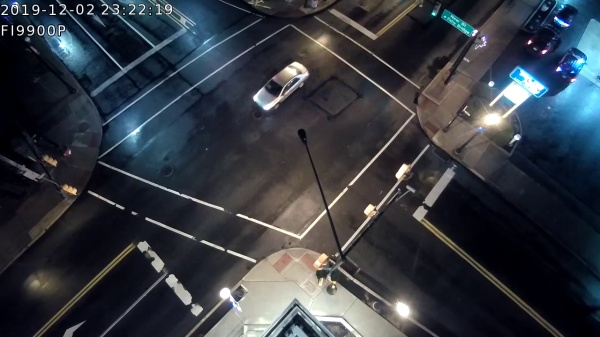car: (247, 60, 311, 116), (519, 26, 561, 59), (557, 43, 582, 85), (551, 2, 578, 33)
